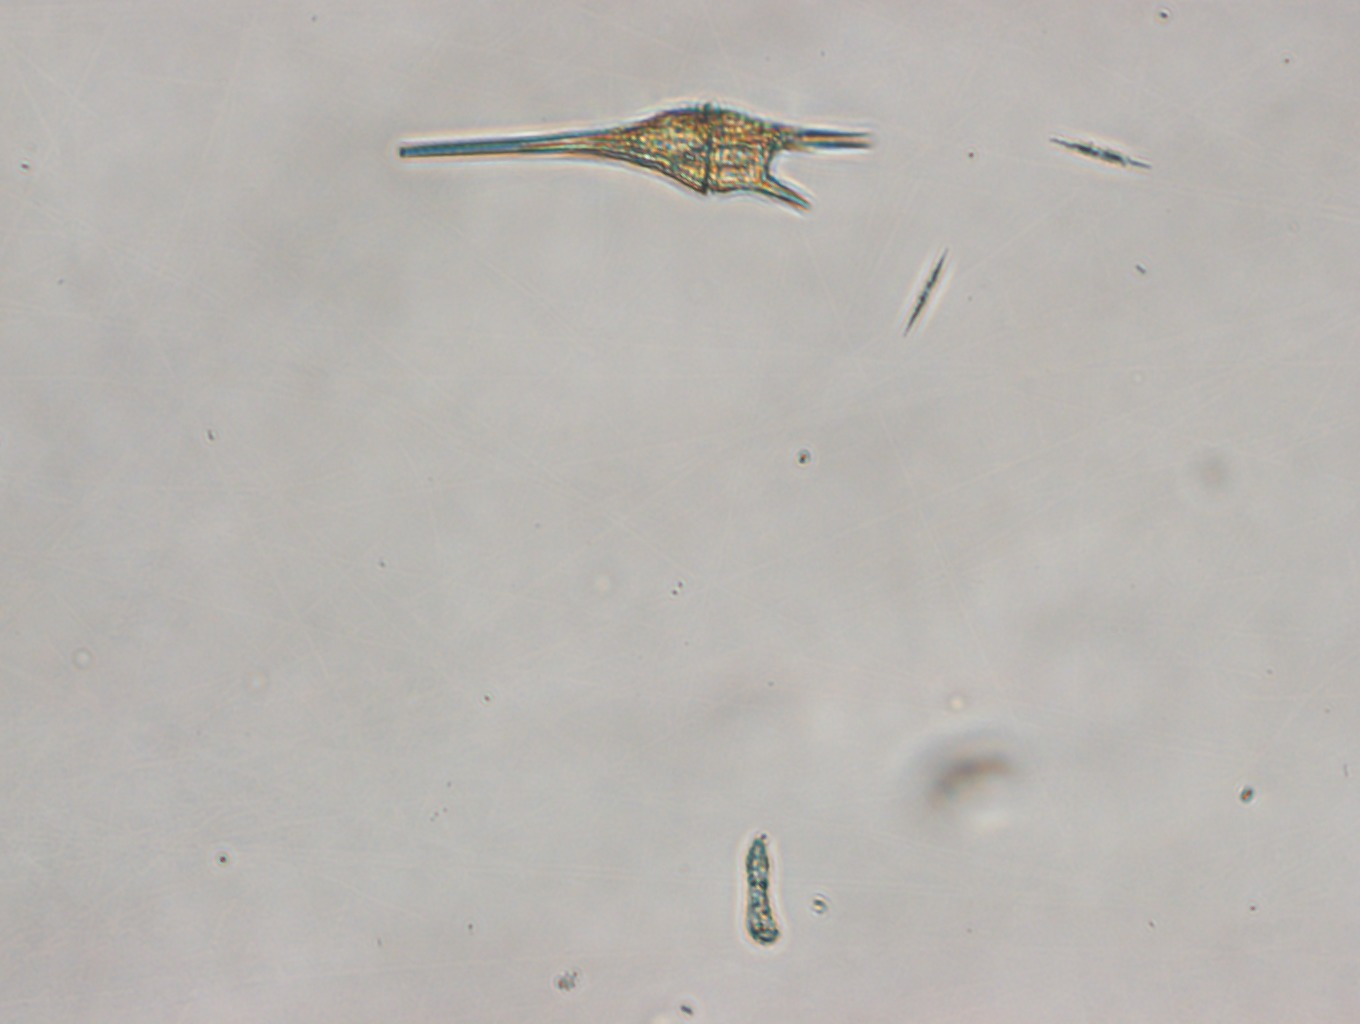ceratium furca: (397, 101, 879, 214)
navicula: (1049, 132, 1156, 175), (905, 248, 948, 339)
